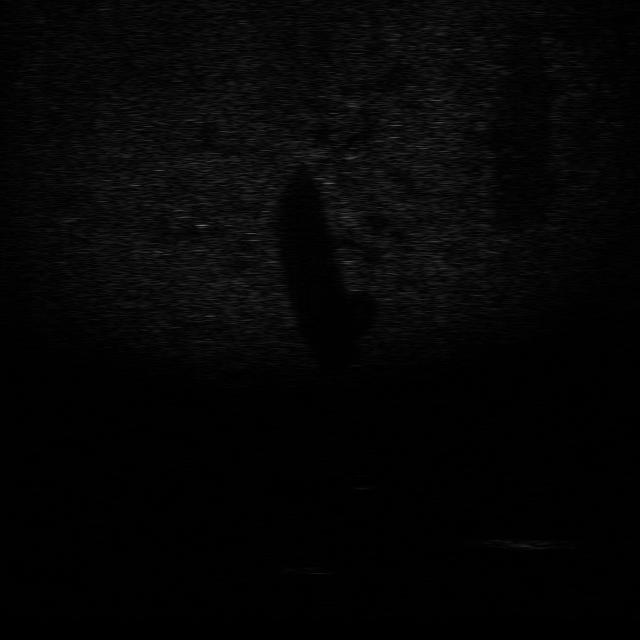ball: (344, 470, 378, 493)
metal bucket: (478, 527, 572, 552)
tyre: (272, 546, 342, 574)
